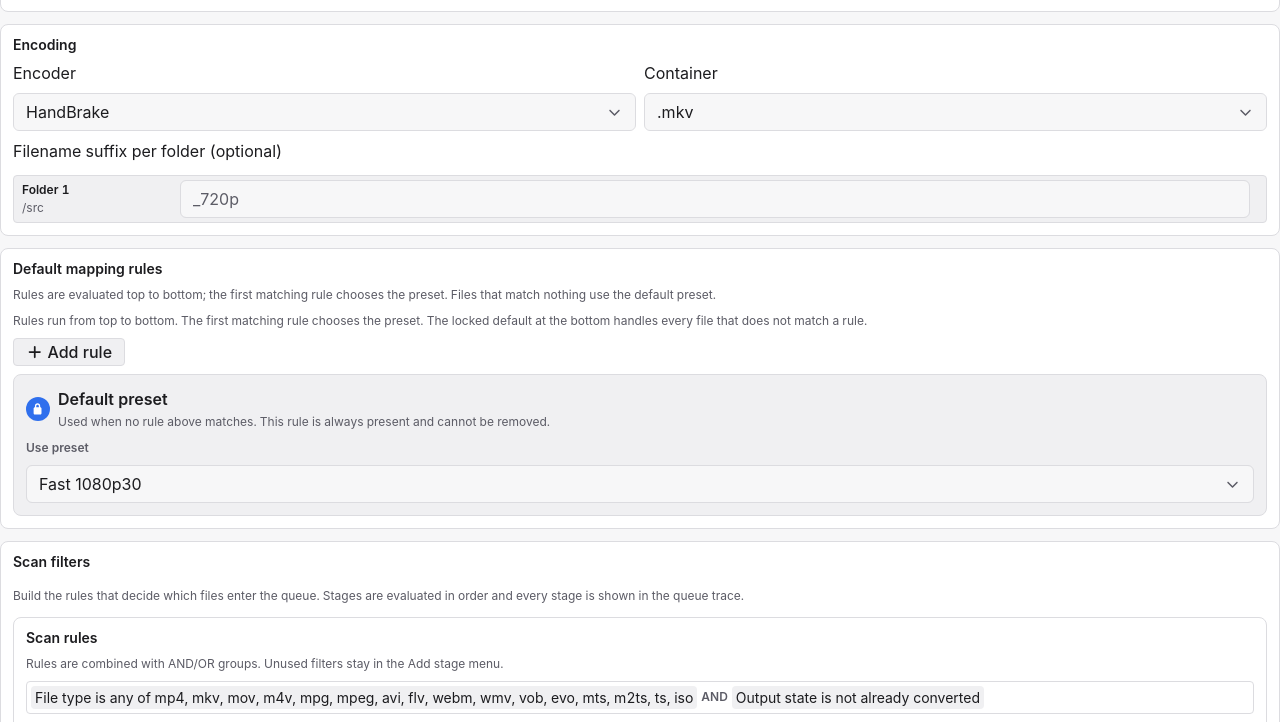
Scenario: SettingsForm mapping rules › adds a rule stage without breaking the editor
The image size is (1280, 722).
(page scrolled)
Click the button "Add rule" at coordinates (69, 352), box [13,338,125,366]
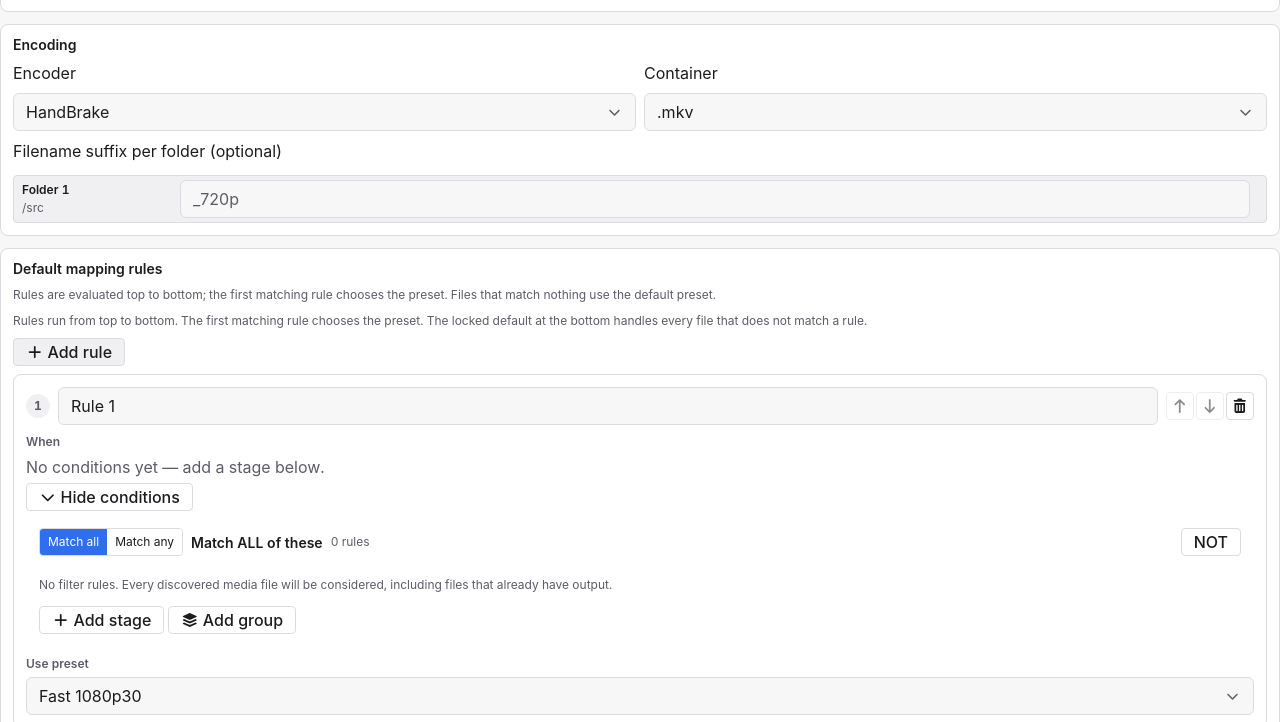
Click the button "Add stage" at coordinates (102, 620), box [39,606,164,634]
(page scrolled)
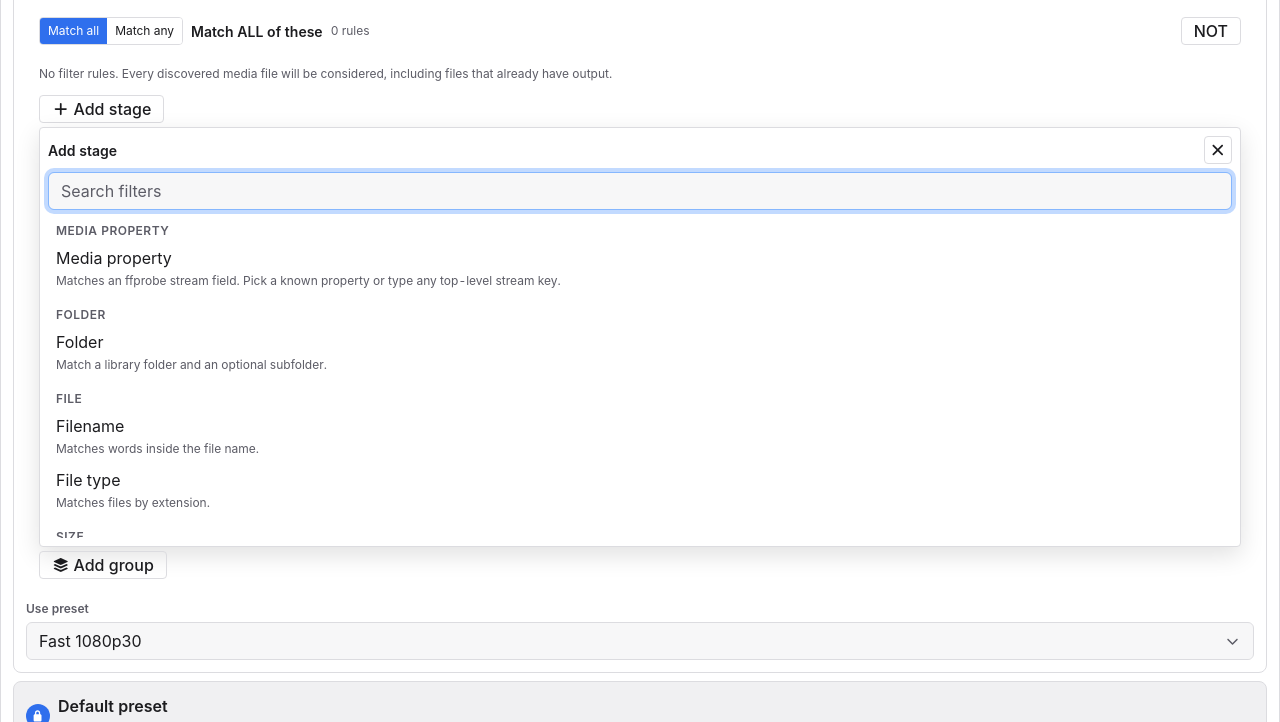
Check: the element "Add stage" is shown, box [39,127,1241,547]
Click the button "Folder Match a library folder and an optional subfolder." at coordinates (80, 342), box [48,326,1232,378]
(page scrolled)
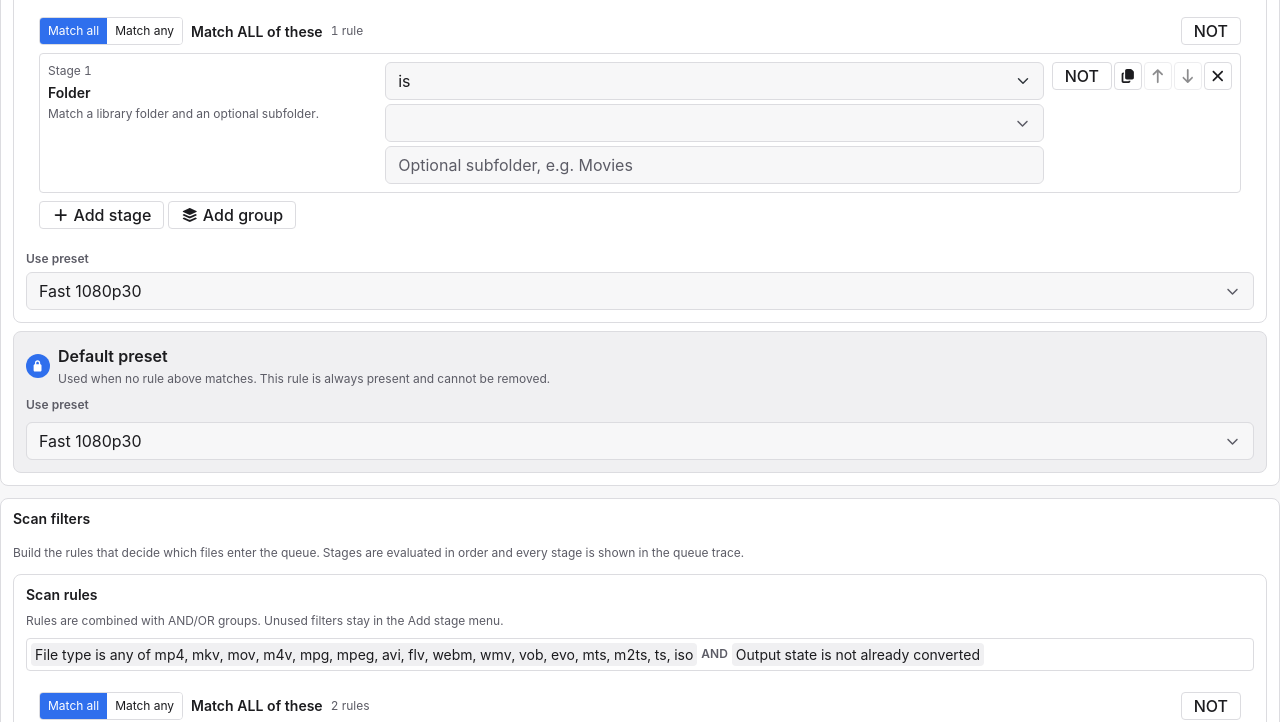
Check: the dropdown named "Library folder" is shown, box [385,104,1044,142]
